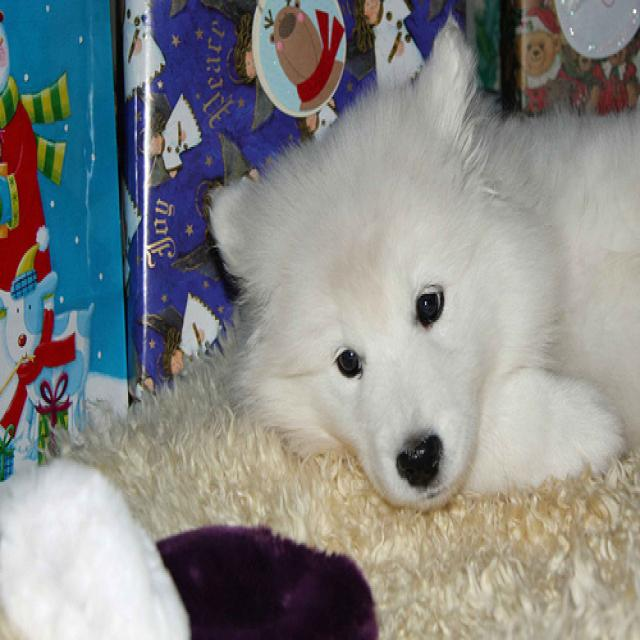dog: (207, 15, 494, 508)
